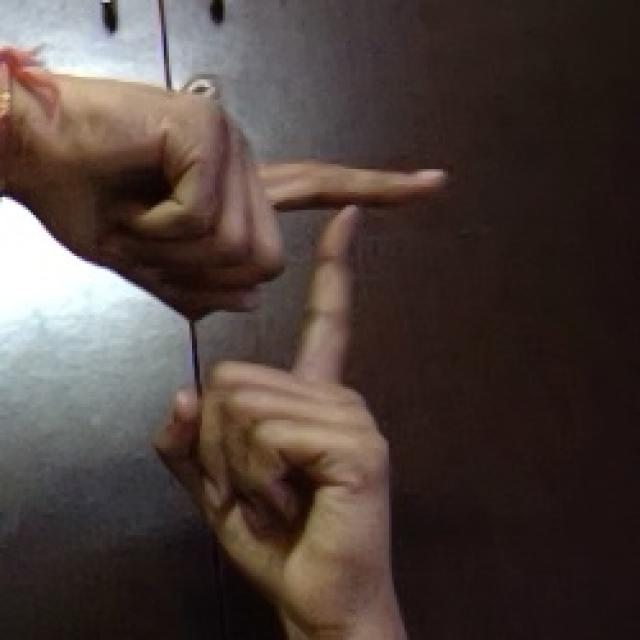Alphabet-T: (46, 64, 454, 638)
